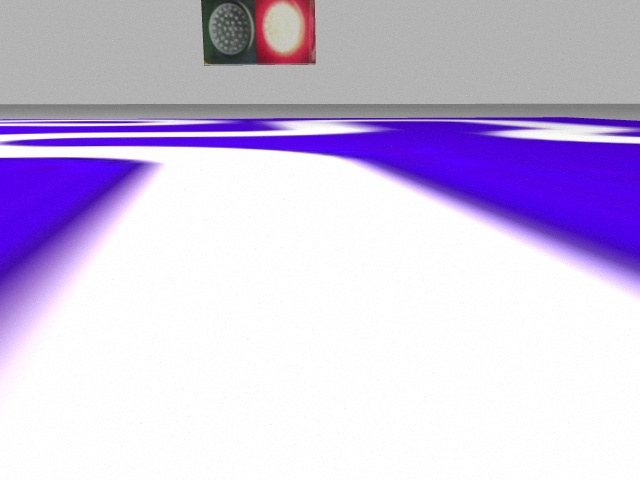red: (255, 2, 315, 62)
